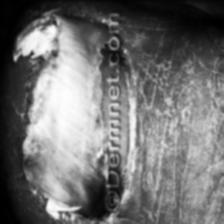Toxin: (13, 11, 104, 213)
